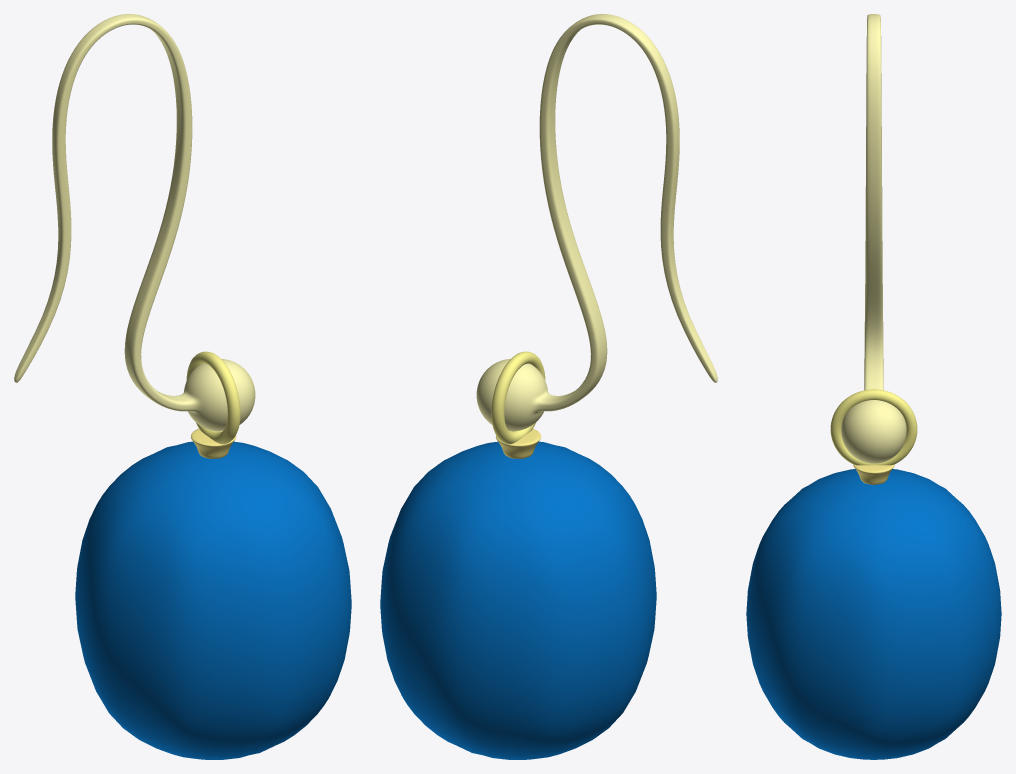
The model's file is earing2.glb.
3 renders of one model, left to right at view 1: azimuth 30°, elevation 25°; view 2: azimuth 150°, elevation 25°; view 3: azimuth 270°, elevation 25°, orthographic. The views are drawn at different scales.
Parts seen in each view (by area): view 1: pCylinder1, pSphere1, pTorus1, pCylinder2; view 2: pCylinder1, pSphere1, pTorus1, pCylinder2; view 3: pCylinder1, pSphere1, pTorus1, pCylinder2.
Boxes of the visible parts, x1,y1,x2,y2 form: pCylinder1: (75,441,351,759); pSphere1: (14,14,255,431); pTorus1: (186,351,240,444); pCylinder2: (191,428,235,458); pCylinder1: (380,441,656,759); pSphere1: (476,14,717,431); pTorus1: (491,351,545,444); pCylinder2: (496,428,540,458); pCylinder1: (746,469,1001,759); pSphere1: (841,14,906,463); pTorus1: (830,389,917,465); pCylinder2: (853,464,894,484).
Size of the model in its own units: 2.26 by 5.1 by 1.71.
